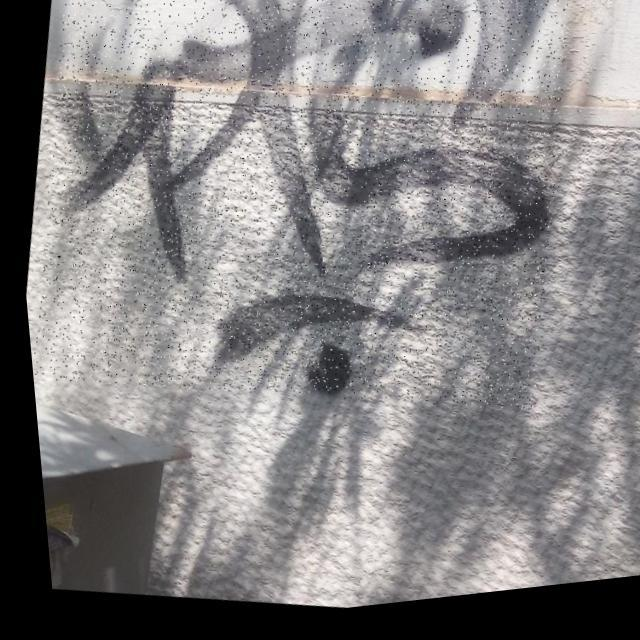-: (0, 0, 602, 465)
